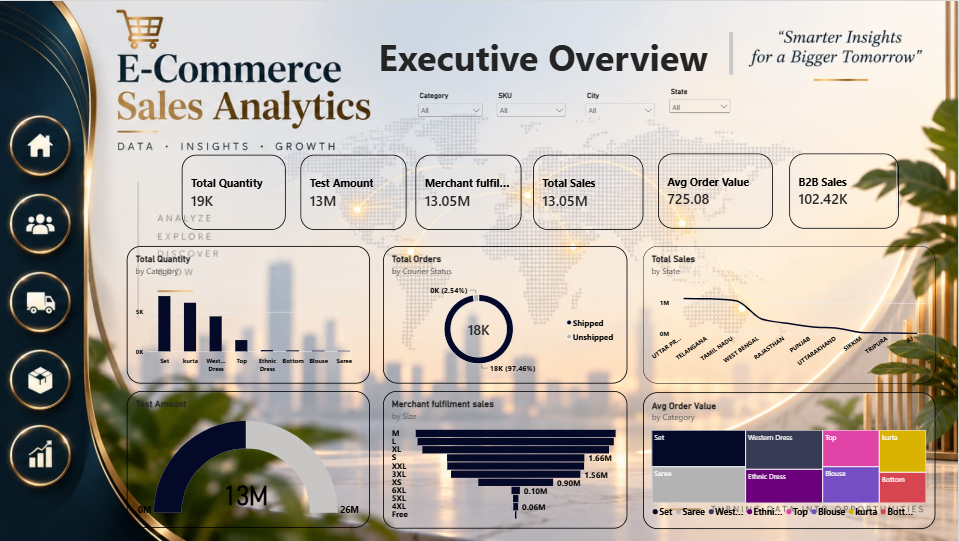

The page's visual inventory and layout, read from the dashboard file:
{"tool":"powerbi","page":{"name":"Executive Overview","canvas":[1920,1080],"ordinal":0},"visuals":[{"type":"actionButton","box":[18.1,228,135.7,128.5],"z":0},{"type":"actionButton","box":[18.1,378.2,135.7,128.5],"z":1000},{"type":"actionButton","box":[18.1,539.3,135.7,128.5],"z":2000},{"type":"actionButton","box":[18.1,691.3,135.7,128.5],"z":3000},{"type":"actionButton","box":[19.9,846.9,135.7,128.5],"z":4000},{"type":"actionButton","box":[28.1,701.3,135.7,128.5],"z":5000},{"type":"textbox","box":[716.6,61.5,752.8,90.5],"z":6000},{"type":"cardVisual","fields":{"Data":["Measure.Total Sales"]},"box":[1069.5,307.6,220.8,150.2],"z":7000},{"type":"cardVisual","fields":{"Data":["Measure.Total Quantity"]},"box":[367.4,307.6,208.1,150.2],"z":8000},{"type":"cardVisual","fields":{"Data":["Measure.Test Amount"]},"box":[606.2,307.6,211.7,150.2],"z":9000},{"type":"cardVisual","fields":{"Data":["Measure.Merchant fulfilment sales"]},"box":[836.1,307.6,211.7,150.2],"z":10000},{"type":"cardVisual","fields":{"Data":["Measure.Avg Order Value"]},"box":[1319.2,304,229.8,150.2],"z":11000},{"type":"cardVisual","fields":{"Data":["Measure.B2B Sales"]},"box":[1583.5,304,219,150.2],"z":12000},{"type":"columnChart","fields":{"Y":["Measure.Total Quantity"],"Category":["Dim_Product.Category"]},"box":[257,490.4,486.8,275.1],"z":13000},{"type":"donutChart","fields":{"Y":["Measure.Total Orders"],"Category":["Dim_Shipping.Courier Status"]},"box":[770.9,490.4,488.6,275.1],"z":14000},{"type":"lineChart","fields":{"Y":["Measure.Total Sales"],"Category":["Dim_Location.State"]},"box":[1290.3,490.4,584.5,275.1],"z":15000},{"type":"gauge","fields":{"Y":["Measure.Test Amount"]},"box":[257,780,486.8,273.3],"z":16000},{"type":"funnel","fields":{"Y":["Measure.Merchant fulfilment sales"],"Category":["Dim_Product.Size"]},"box":[770.9,780,488.6,275.1],"z":17000},{"type":"treemap","fields":{"Group":["Dim_Product.Category"],"Values":["Measure.Avg Order Value"]},"box":[1290.3,781.8,584.5,273.3],"z":18000},{"type":"slicer","fields":{"Values":["Dim_Product.Category"]},"box":[836.1,179.2,139.3,70.6],"z":19000},{"type":"slicer","fields":{"Values":["Dim_Product.SKU"]},"box":[993.5,179.2,148.4,70.6],"z":20000},{"type":"slicer","fields":{"Values":["Dim_Location.City"]},"box":[1170.9,179.2,148.4,48.9],"z":21000},{"type":"slicer","fields":{"Values":["Dim_Location.State"]},"box":[1337.3,173.7,132.1,54.3],"z":22000}]}

Visuals, with their boxes in screenshot pixels (x1, y1, x2, y2), scaled from the page's 1920x1080 canvas onto the 959x541 screenshot:
actionButton: box=[9, 114, 77, 179]
actionButton: box=[9, 189, 77, 254]
actionButton: box=[9, 270, 77, 335]
actionButton: box=[9, 346, 77, 411]
actionButton: box=[10, 424, 78, 489]
actionButton: box=[14, 351, 82, 416]
textbox: box=[358, 31, 734, 76]
cardVisual - Measure.Total Sales: box=[534, 154, 644, 229]
cardVisual - Measure.Total Quantity: box=[184, 154, 287, 229]
cardVisual - Measure.Test Amount: box=[303, 154, 409, 229]
cardVisual - Measure.Merchant fulfilment sales: box=[418, 154, 523, 229]
cardVisual - Measure.Avg Order Value: box=[659, 152, 774, 228]
cardVisual - Measure.B2B Sales: box=[791, 152, 900, 228]
columnChart - Measure.Total Quantity x Dim_Product.Category: box=[128, 246, 372, 383]
donutChart - Measure.Total Orders x Dim_Shipping.Courier Status: box=[385, 246, 629, 383]
lineChart - Measure.Total Sales x Dim_Location.State: box=[644, 246, 936, 383]
gauge - Measure.Test Amount: box=[128, 391, 372, 528]
funnel - Measure.Merchant fulfilment sales x Dim_Product.Size: box=[385, 391, 629, 529]
treemap - Dim_Product.Category x Measure.Avg Order Value: box=[644, 392, 936, 529]
slicer - Dim_Product.Category: box=[418, 90, 487, 125]
slicer - Dim_Product.SKU: box=[496, 90, 570, 125]
slicer - Dim_Location.City: box=[585, 90, 659, 114]
slicer - Dim_Location.State: box=[668, 87, 734, 114]
